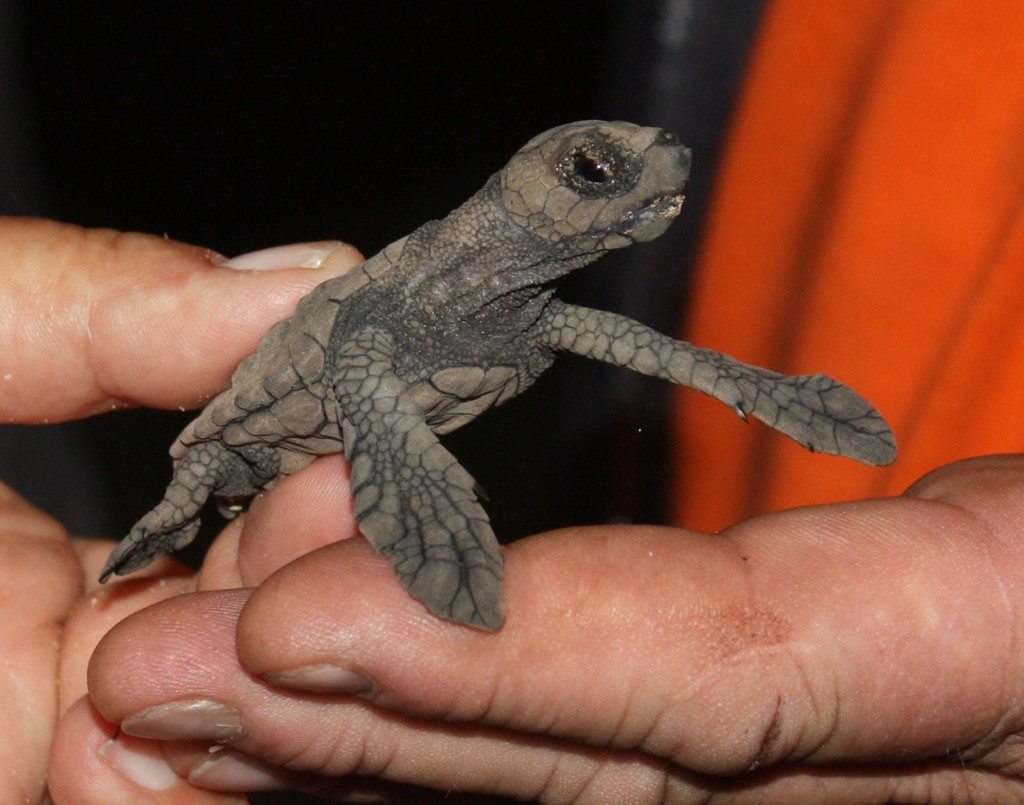Sea turtles: (95, 118, 901, 634)
